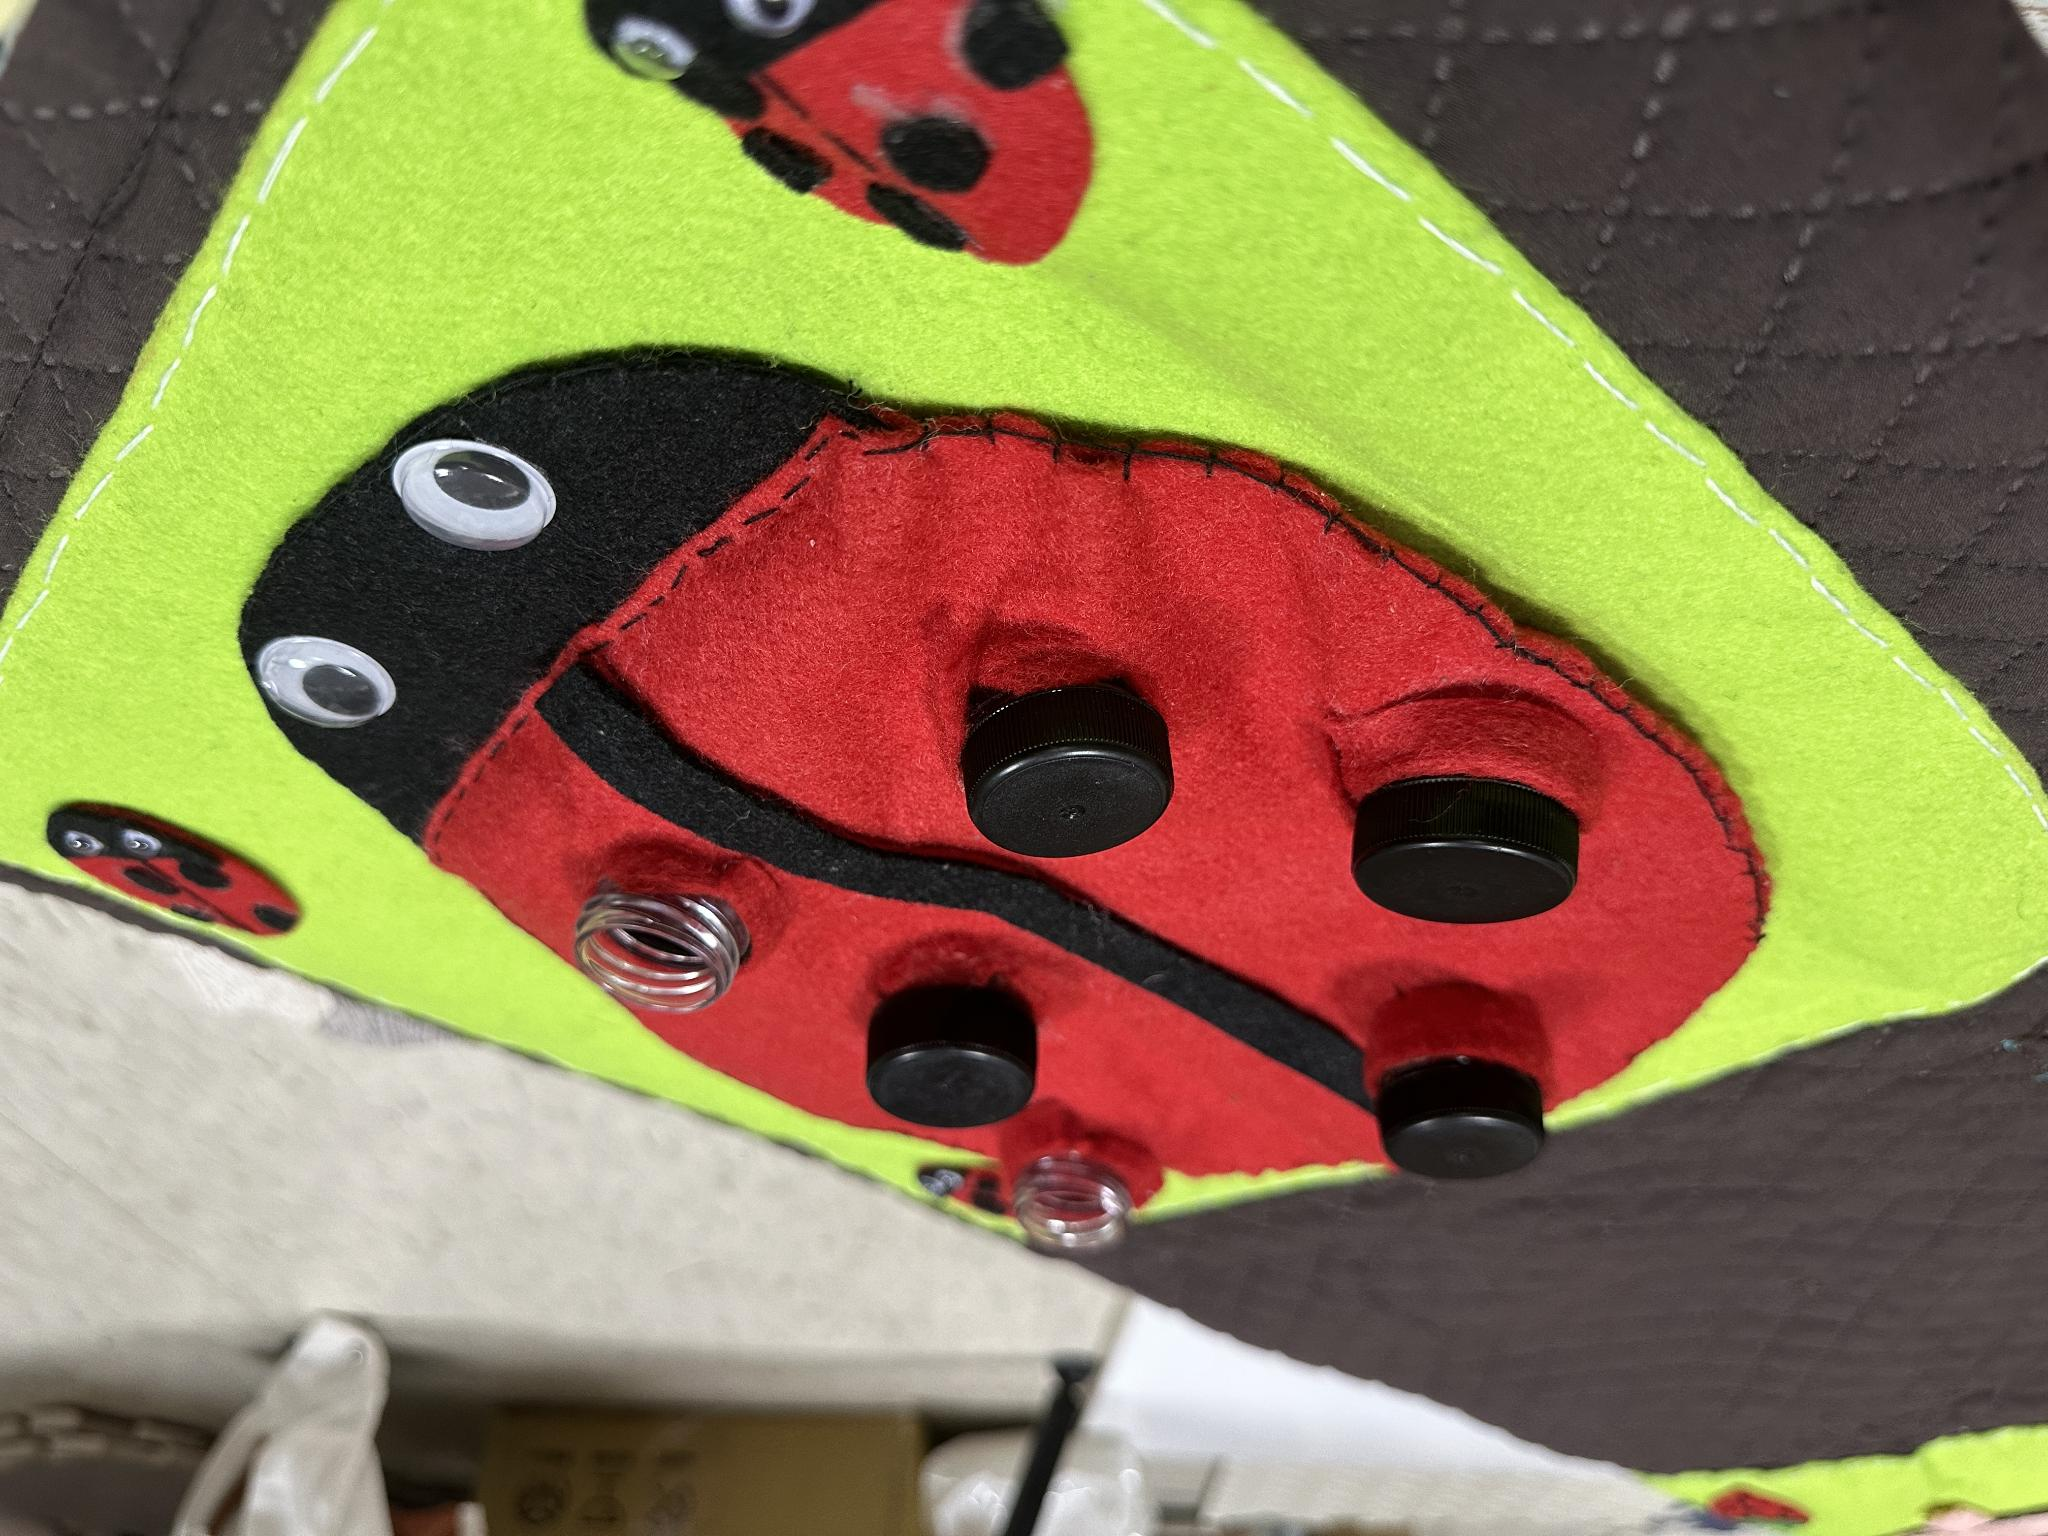cap_ok: (935, 618, 1227, 891), (1338, 692, 1638, 944), (1351, 966, 1582, 1199), (858, 955, 1079, 1134)
